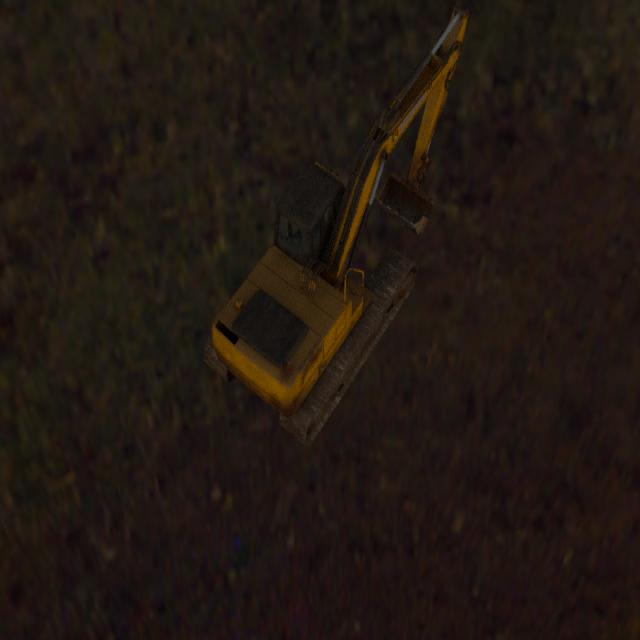excavator: (203, 1, 469, 447)
